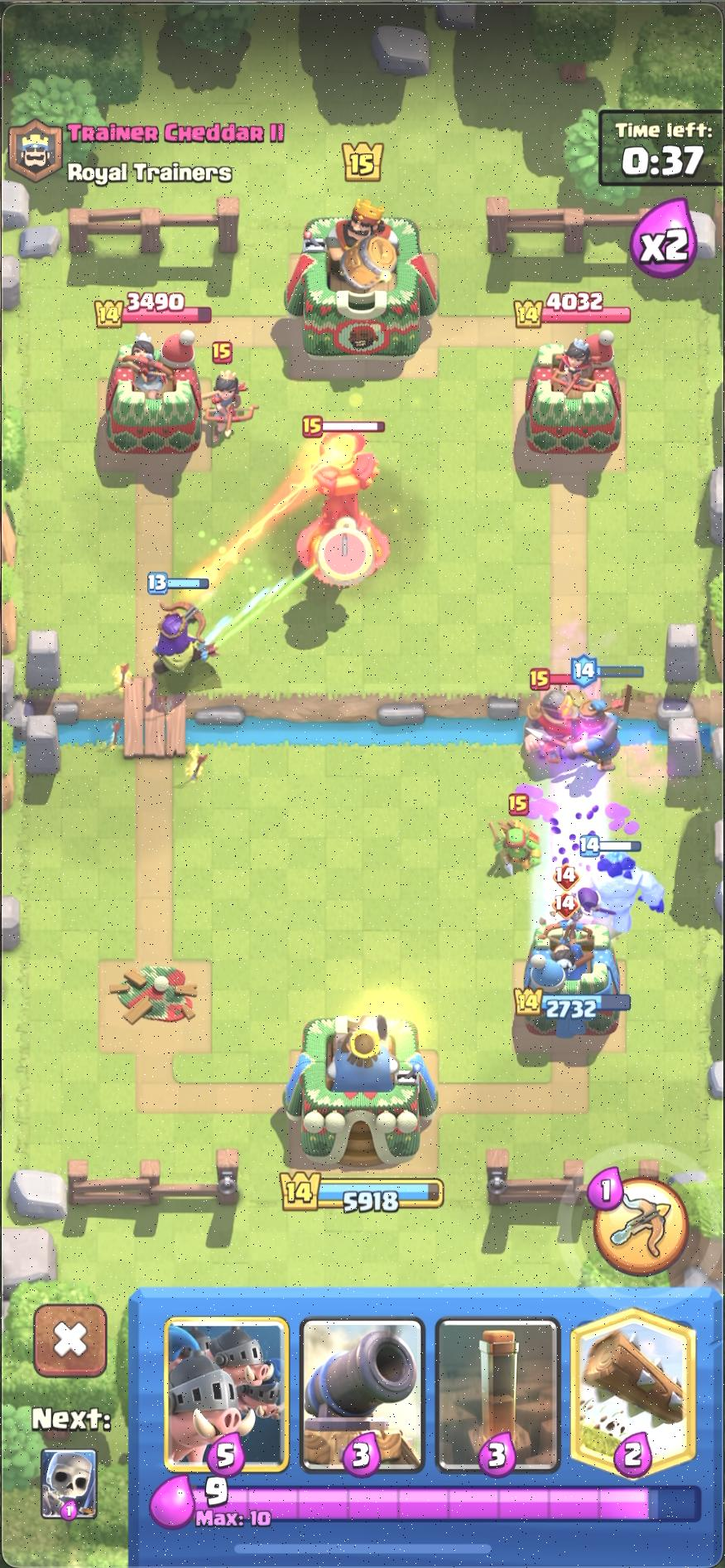card_cannon: (299, 1315, 428, 1477)
card_earthquake: (435, 1313, 562, 1476)
card_log: (568, 1306, 698, 1482)
card_royalhogs: (162, 1313, 292, 1475)
card_skeletons: (38, 1446, 102, 1522)
